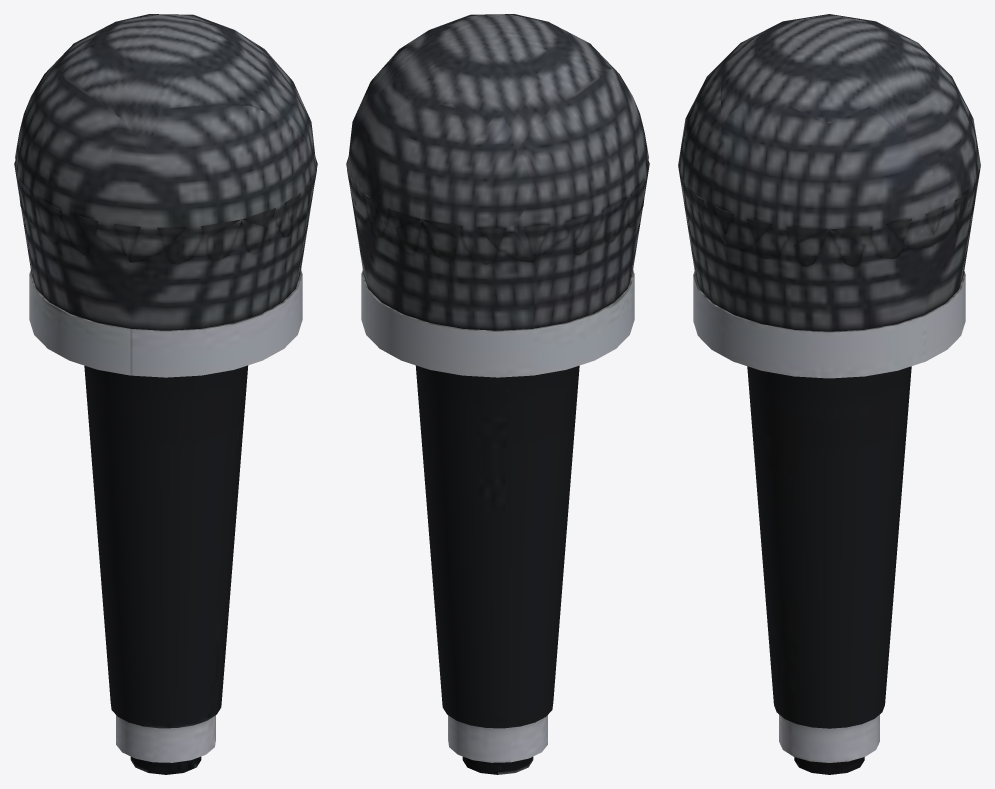
Rendered from microfono.glb.
3 views of the same model, side by side, from view 1: azimuth 30°, elevation 25°; view 2: azimuth 150°, elevation 25°; view 3: azimuth 270°, elevation 25° (orthographic).
Parts seen in each view (by area): view 1: microfono; view 2: microfono; view 3: microfono.
Boxes of the visible parts, bbox=[...] form: microfono: bbox=[14, 14, 317, 774]; microfono: bbox=[346, 14, 649, 774]; microfono: bbox=[678, 14, 980, 774].
Size of the model in its own units: 0.3 by 0.8 by 0.3.
Materials: 1 (1 with a texture image).
